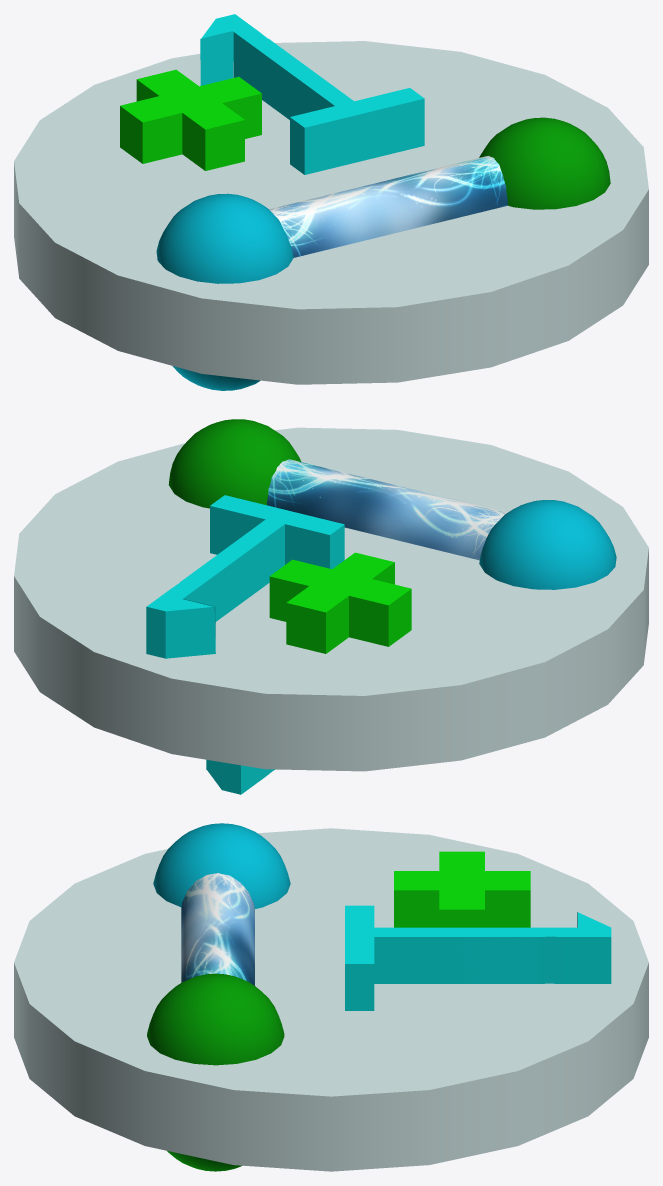
Rendered from Charge.fbx.
The picture shows the model from 3 angles, top to bottom: view 1: azimuth 30°, elevation 25°; view 2: azimuth 150°, elevation 25°; view 3: azimuth 270°, elevation 25°; orthographic projection.
Parts seen in each view (by area): view 1: pCylinder1, One, pCylinder2, Plus, pSphere1, pSphere2, pSphere3; view 2: pCylinder1, One, pCylinder2, Plus, pSphere1, pSphere2, One1; view 3: pCylinder1, One, pSphere2, Plus, pSphere1, pCylinder2, pSphere4.
Boxes of the visible parts, x1=… form: pCylinder1: x1=14, y1=41, x2=648, y2=384; One: x1=200, y1=14, x2=424, y2=174; pCylinder2: x1=269, y1=156, x2=507, y2=257; Plus: x1=120, y1=69, x2=261, y2=170; pSphere1: x1=156, y1=193, x2=293, y2=283; pSphere2: x1=479, y1=117, x2=610, y2=209; pSphere3: x1=172, y1=366, x2=260, y2=390; pCylinder1: x1=14, y1=427, x2=648, y2=771; One: x1=146, y1=495, x2=344, y2=658; pCylinder2: x1=267, y1=459, x2=507, y2=560; Plus: x1=269, y1=552, x2=411, y2=653; pSphere1: x1=479, y1=500, x2=616, y2=589; pSphere2: x1=168, y1=419, x2=301, y2=508; One1: x1=206, y1=759, x2=275, y2=794; pCylinder1: x1=14, y1=828, x2=648, y2=1171; One: x1=345, y1=905, x2=611, y2=1010; pSphere2: x1=147, y1=973, x2=284, y2=1065; Plus: x1=394, y1=851, x2=530, y2=927; pSphere1: x1=153, y1=823, x2=290, y2=908; pCylinder2: x1=181, y1=873, x2=254, y2=985; pSphere4: x1=167, y1=1151, x2=242, y2=1171.
Bounding box in the file's own units: 6.09 × 1.96 × 6.09.
Materials: 6 (1 with a texture image).
